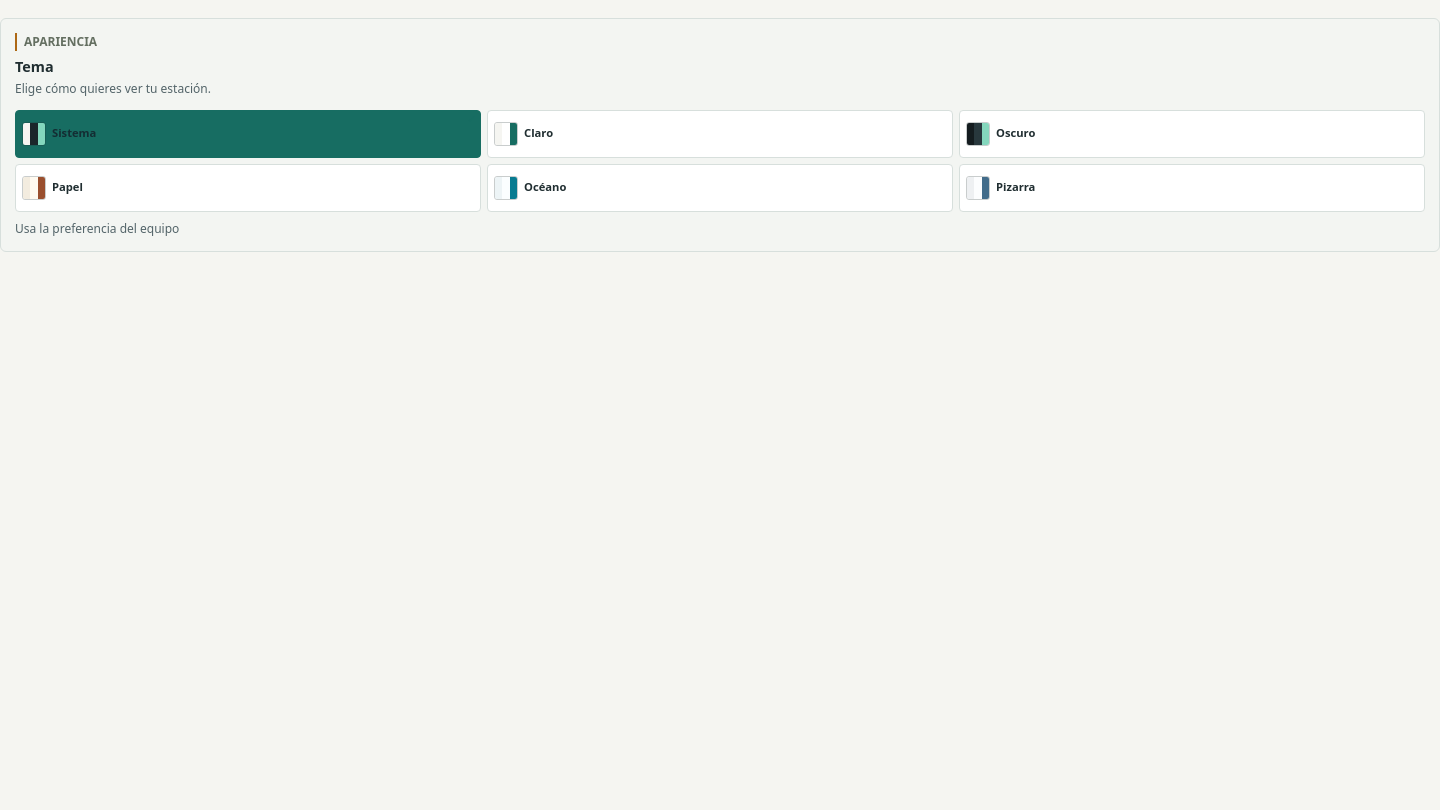
Scenario: paletas adicionales del selector de tema › aplica y conserva la paleta Pizarra
The width and height of the screenshot is (1440, 810).
Click the button "Pizarra" at (1016, 187), box [959, 164, 1425, 212]
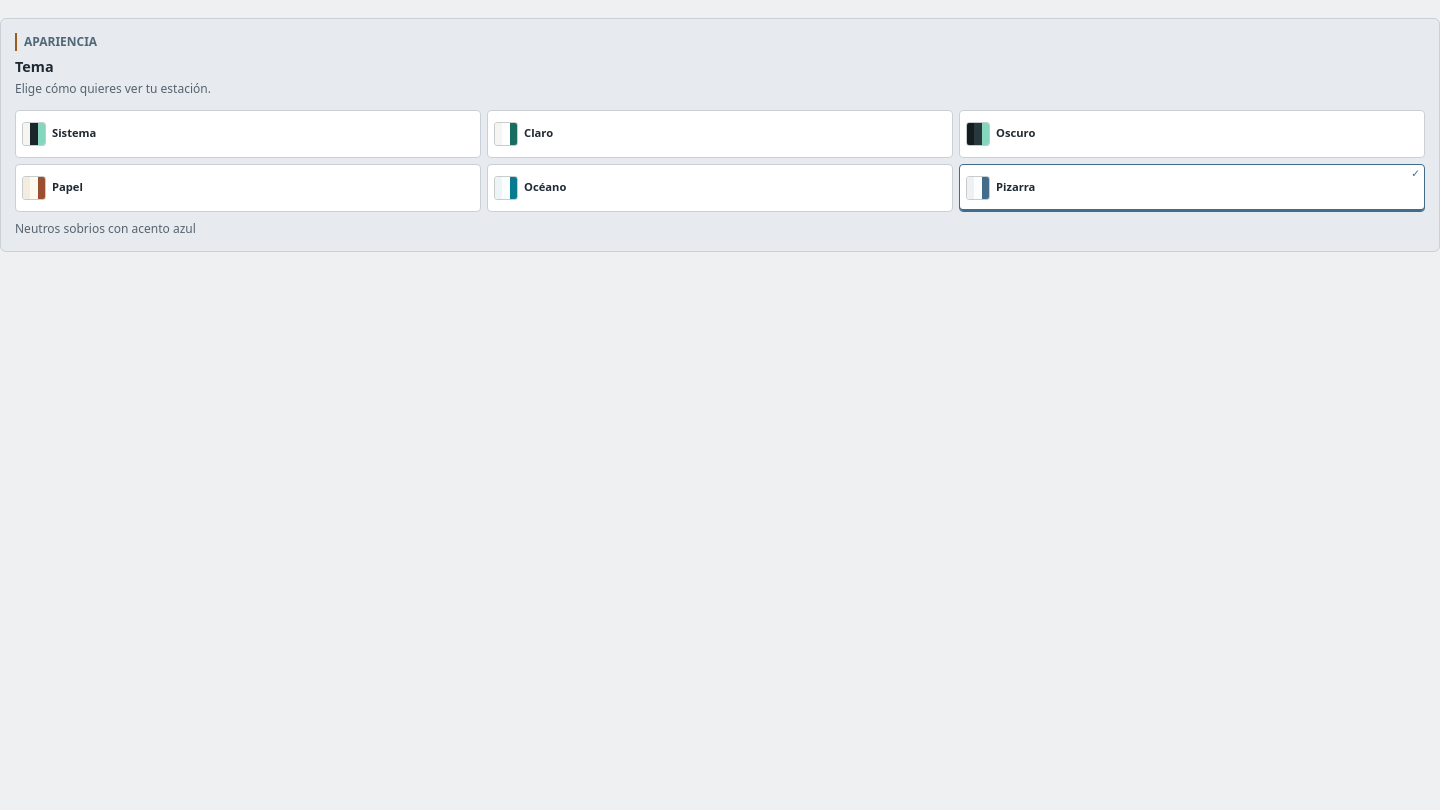
Now the text "Neutros sobrios con acento azul" is shown, box [15, 220, 196, 237]
